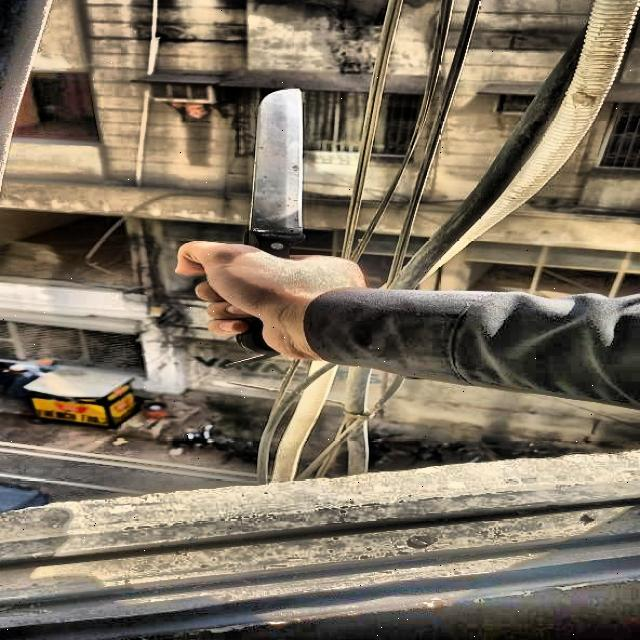knife: (238, 86, 304, 353)
